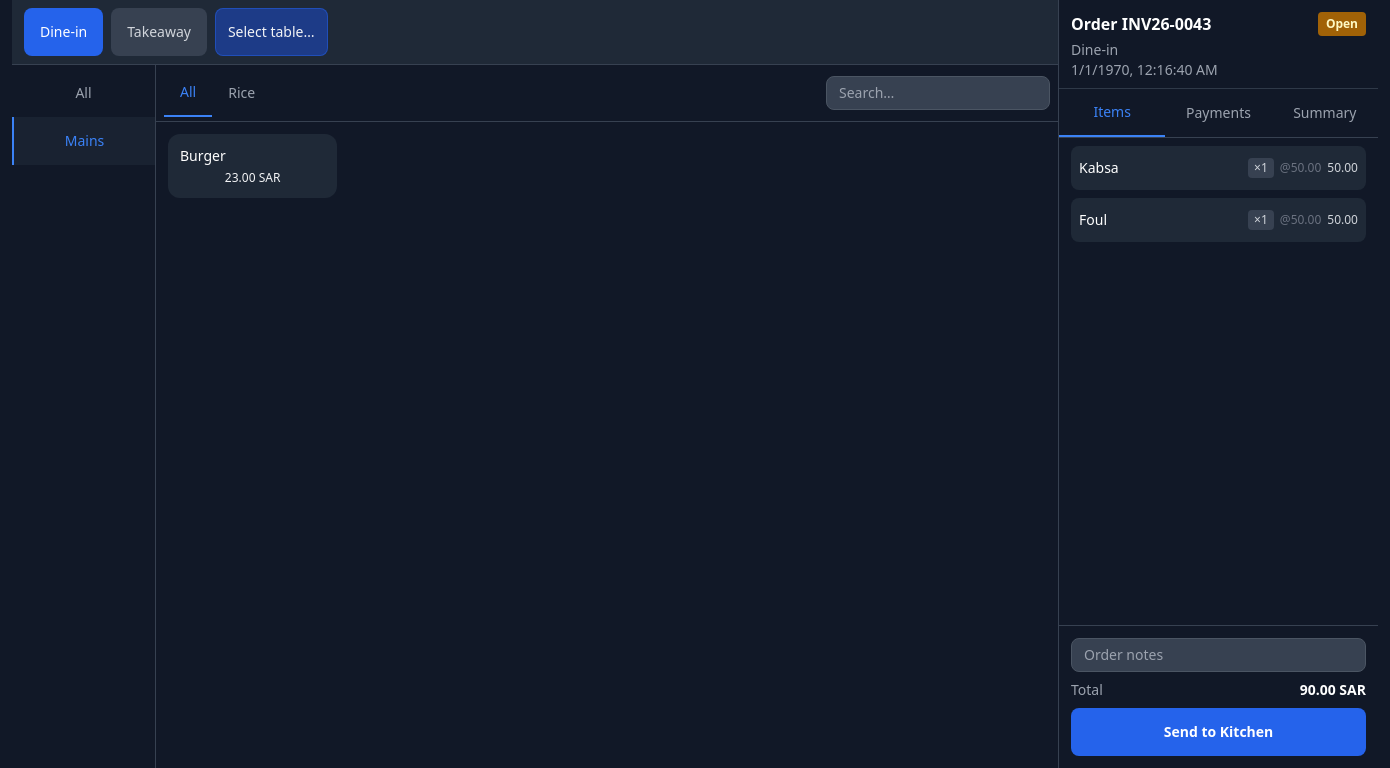
OrderPage — Promotion Discount display (slice 9) › dirty cart keeps the local item sum in the footer
The image size is (1390, 768).
Expected: the heading "Order INV26-0043" is shown, [1071, 12, 1211, 36]
Click the text "Burger": (203, 156) [180, 146, 226, 165]
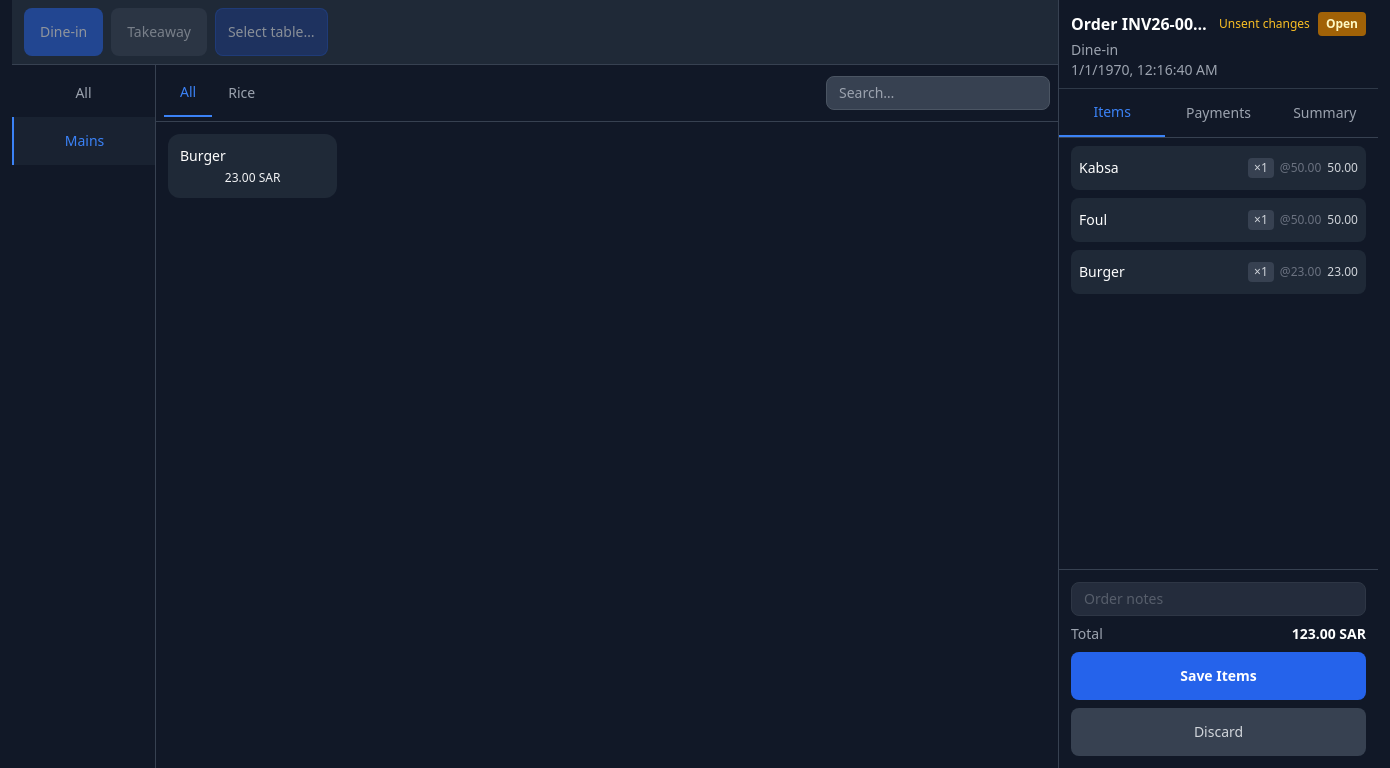
Expected: the text "Unsent changes" is shown, [1219, 16, 1310, 32]
Expected: the text "123.00 SAR" is shown, [1292, 624, 1366, 644]
Expected: the text "90.00 SAR" is gone
